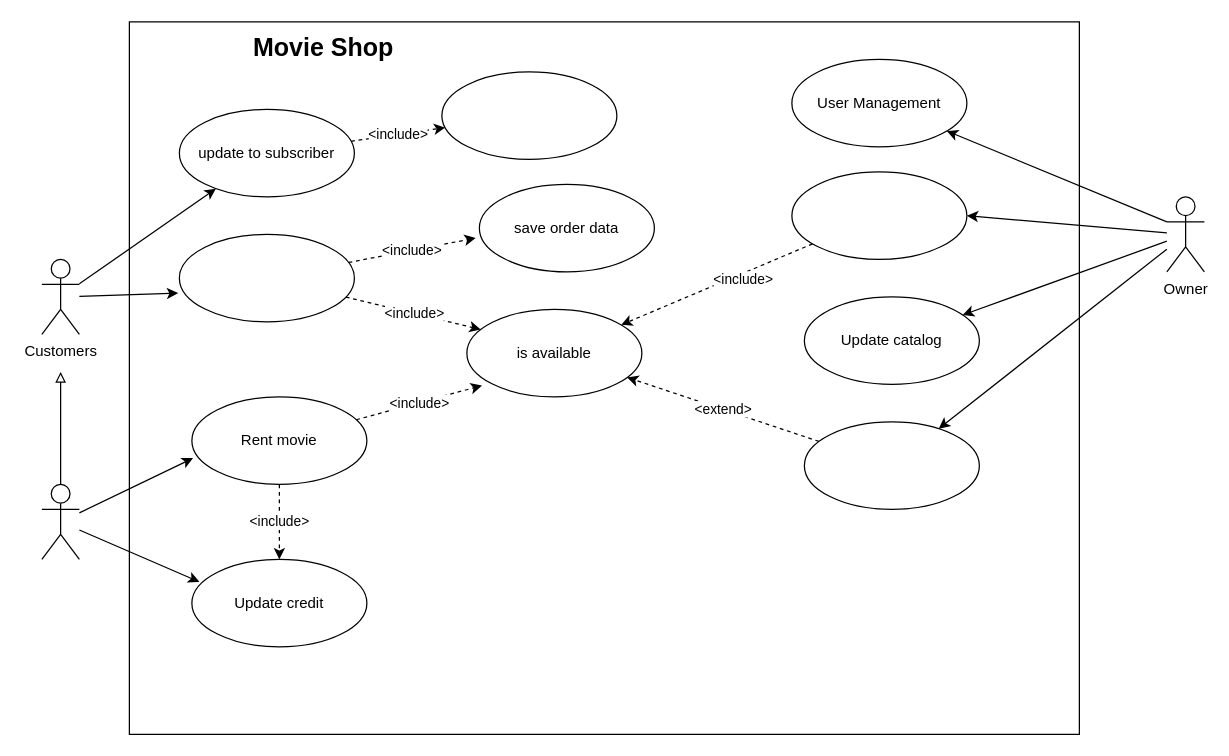
Some shapes in this 1229 by 756 pixel diagram are drawn without their labels. Each missing label, with the centre of its shape:
"Buy movie" belongs at (266,277).
"create card" belongs at (529,115).
"order movie" belongs at (891,465).
"Select Catalog" belongs at (879,215).
"Subscribers" belongs at (60,521).
